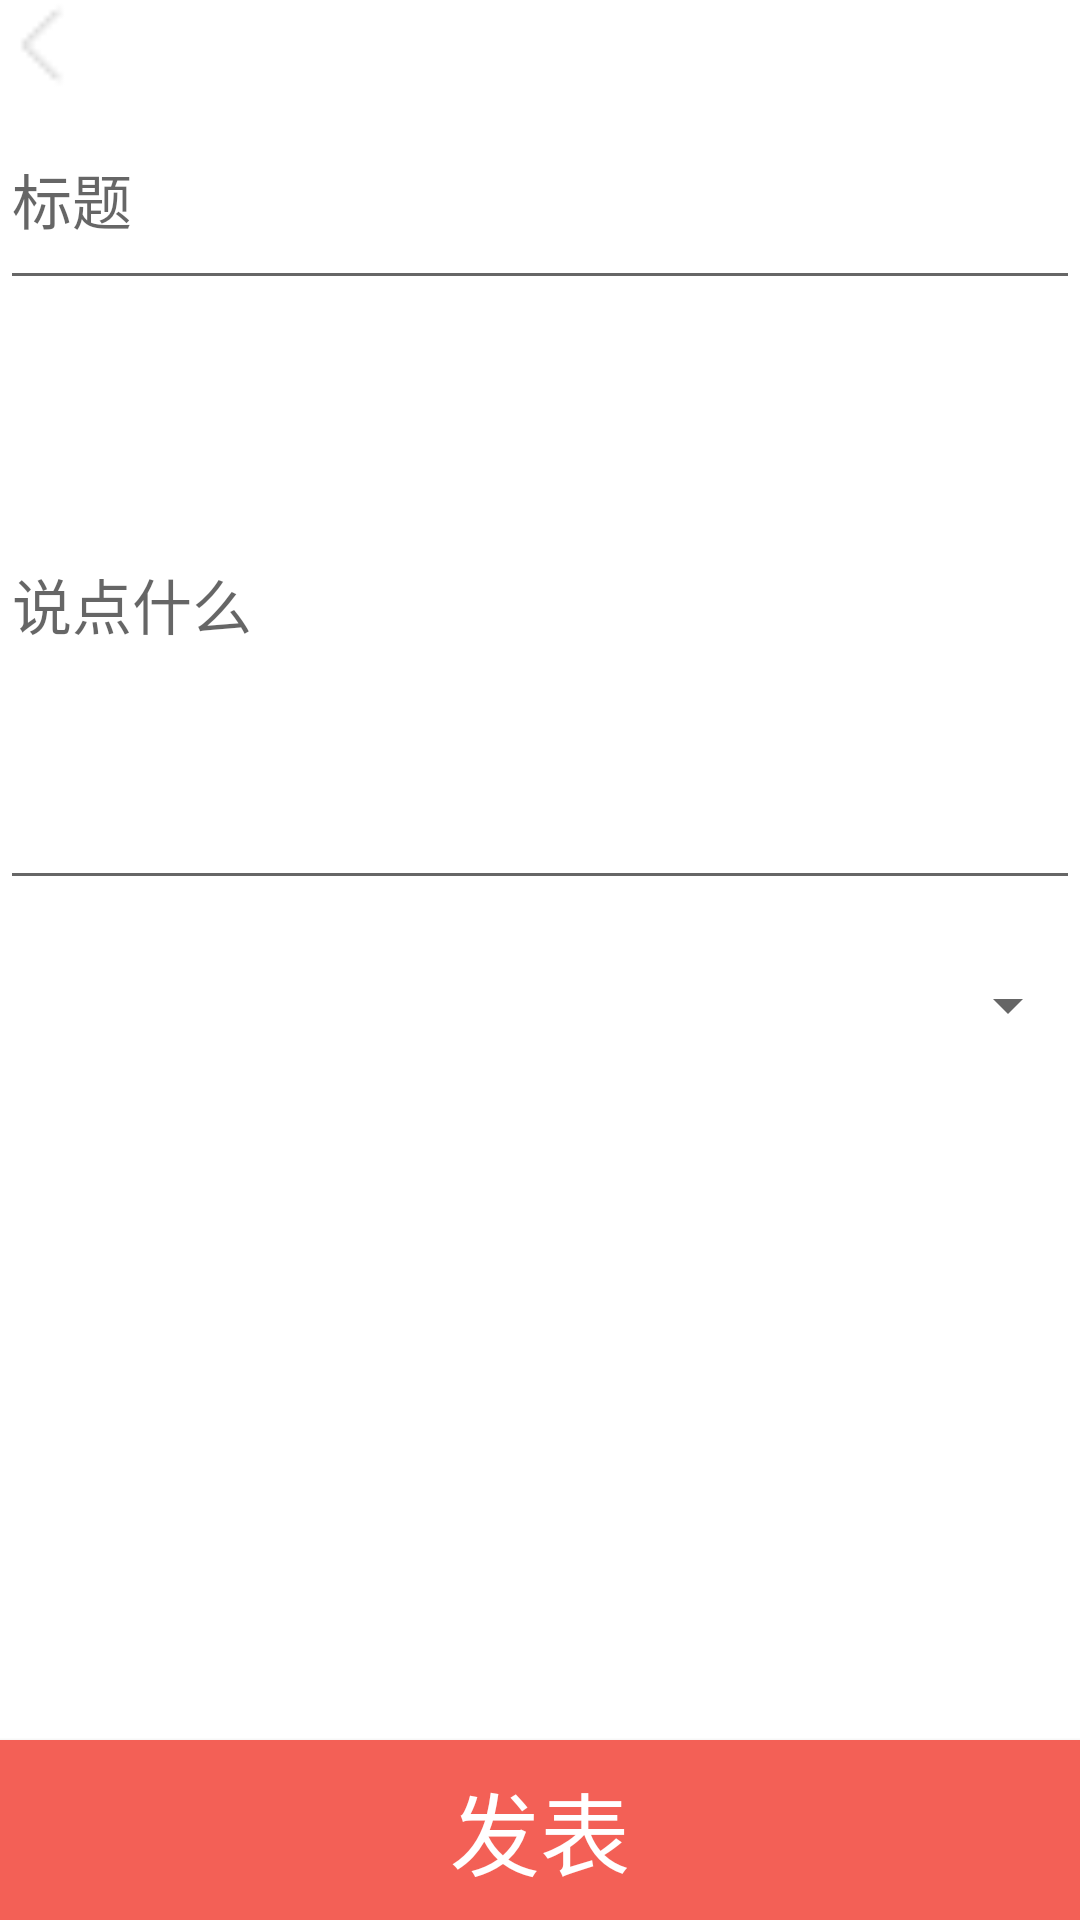

Icon click points for this 1080w x 1920h phone screenshot, format (x=x, y=y):
return: (x=39, y=45)
